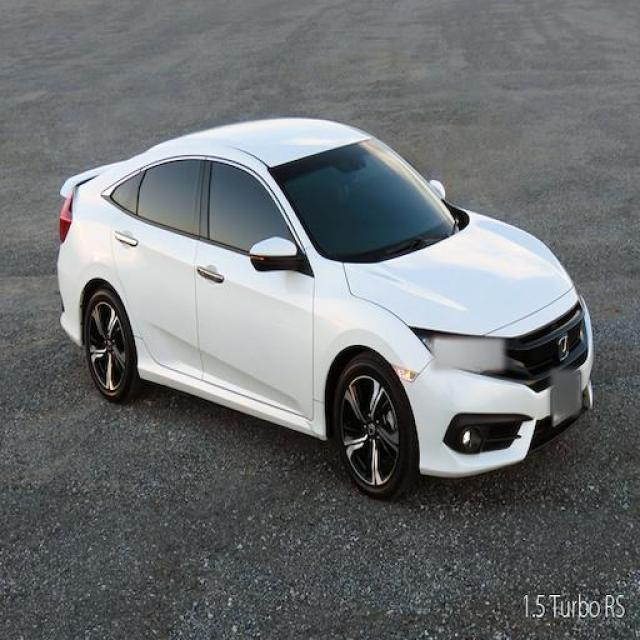back_right_door: (110, 154, 205, 379)
back_right_light: (60, 197, 74, 243)
front_bumper: (400, 285, 594, 479)
front_glass: (268, 138, 470, 263)
front_right_door: (196, 155, 315, 421)
front_right_light: (419, 336, 502, 373)
hood: (343, 208, 574, 335)
left_mirror: (428, 178, 447, 199)
right_mirror: (248, 237, 299, 274)
wheel: (83, 292, 410, 499)
